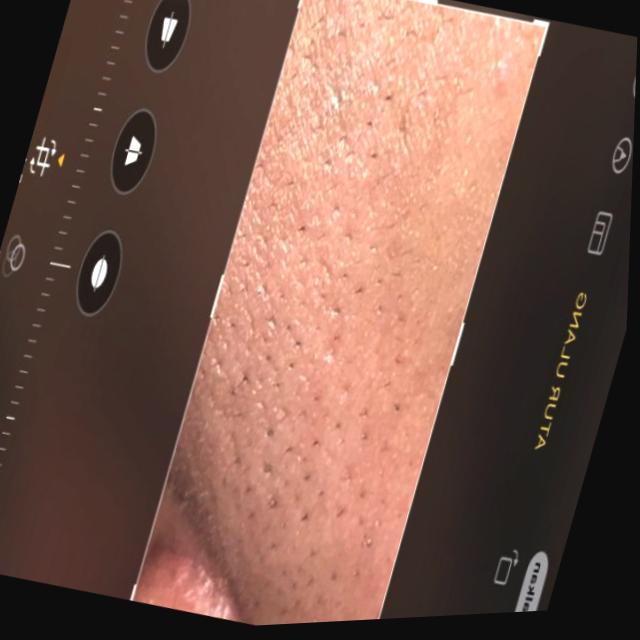blackhead: (197, 140, 429, 590)
